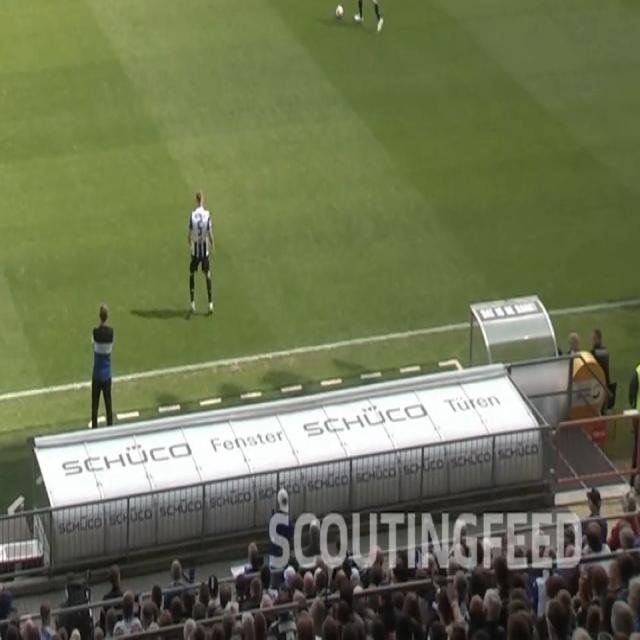ball: (336, 3, 344, 20)
